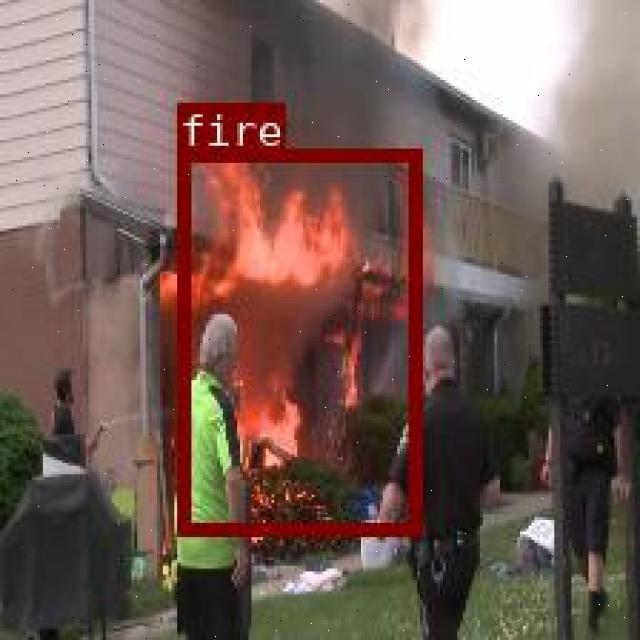fire: (176, 147, 419, 533)
